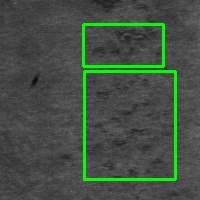rolled-in_scale: (84, 71, 175, 179), (83, 24, 163, 66)
